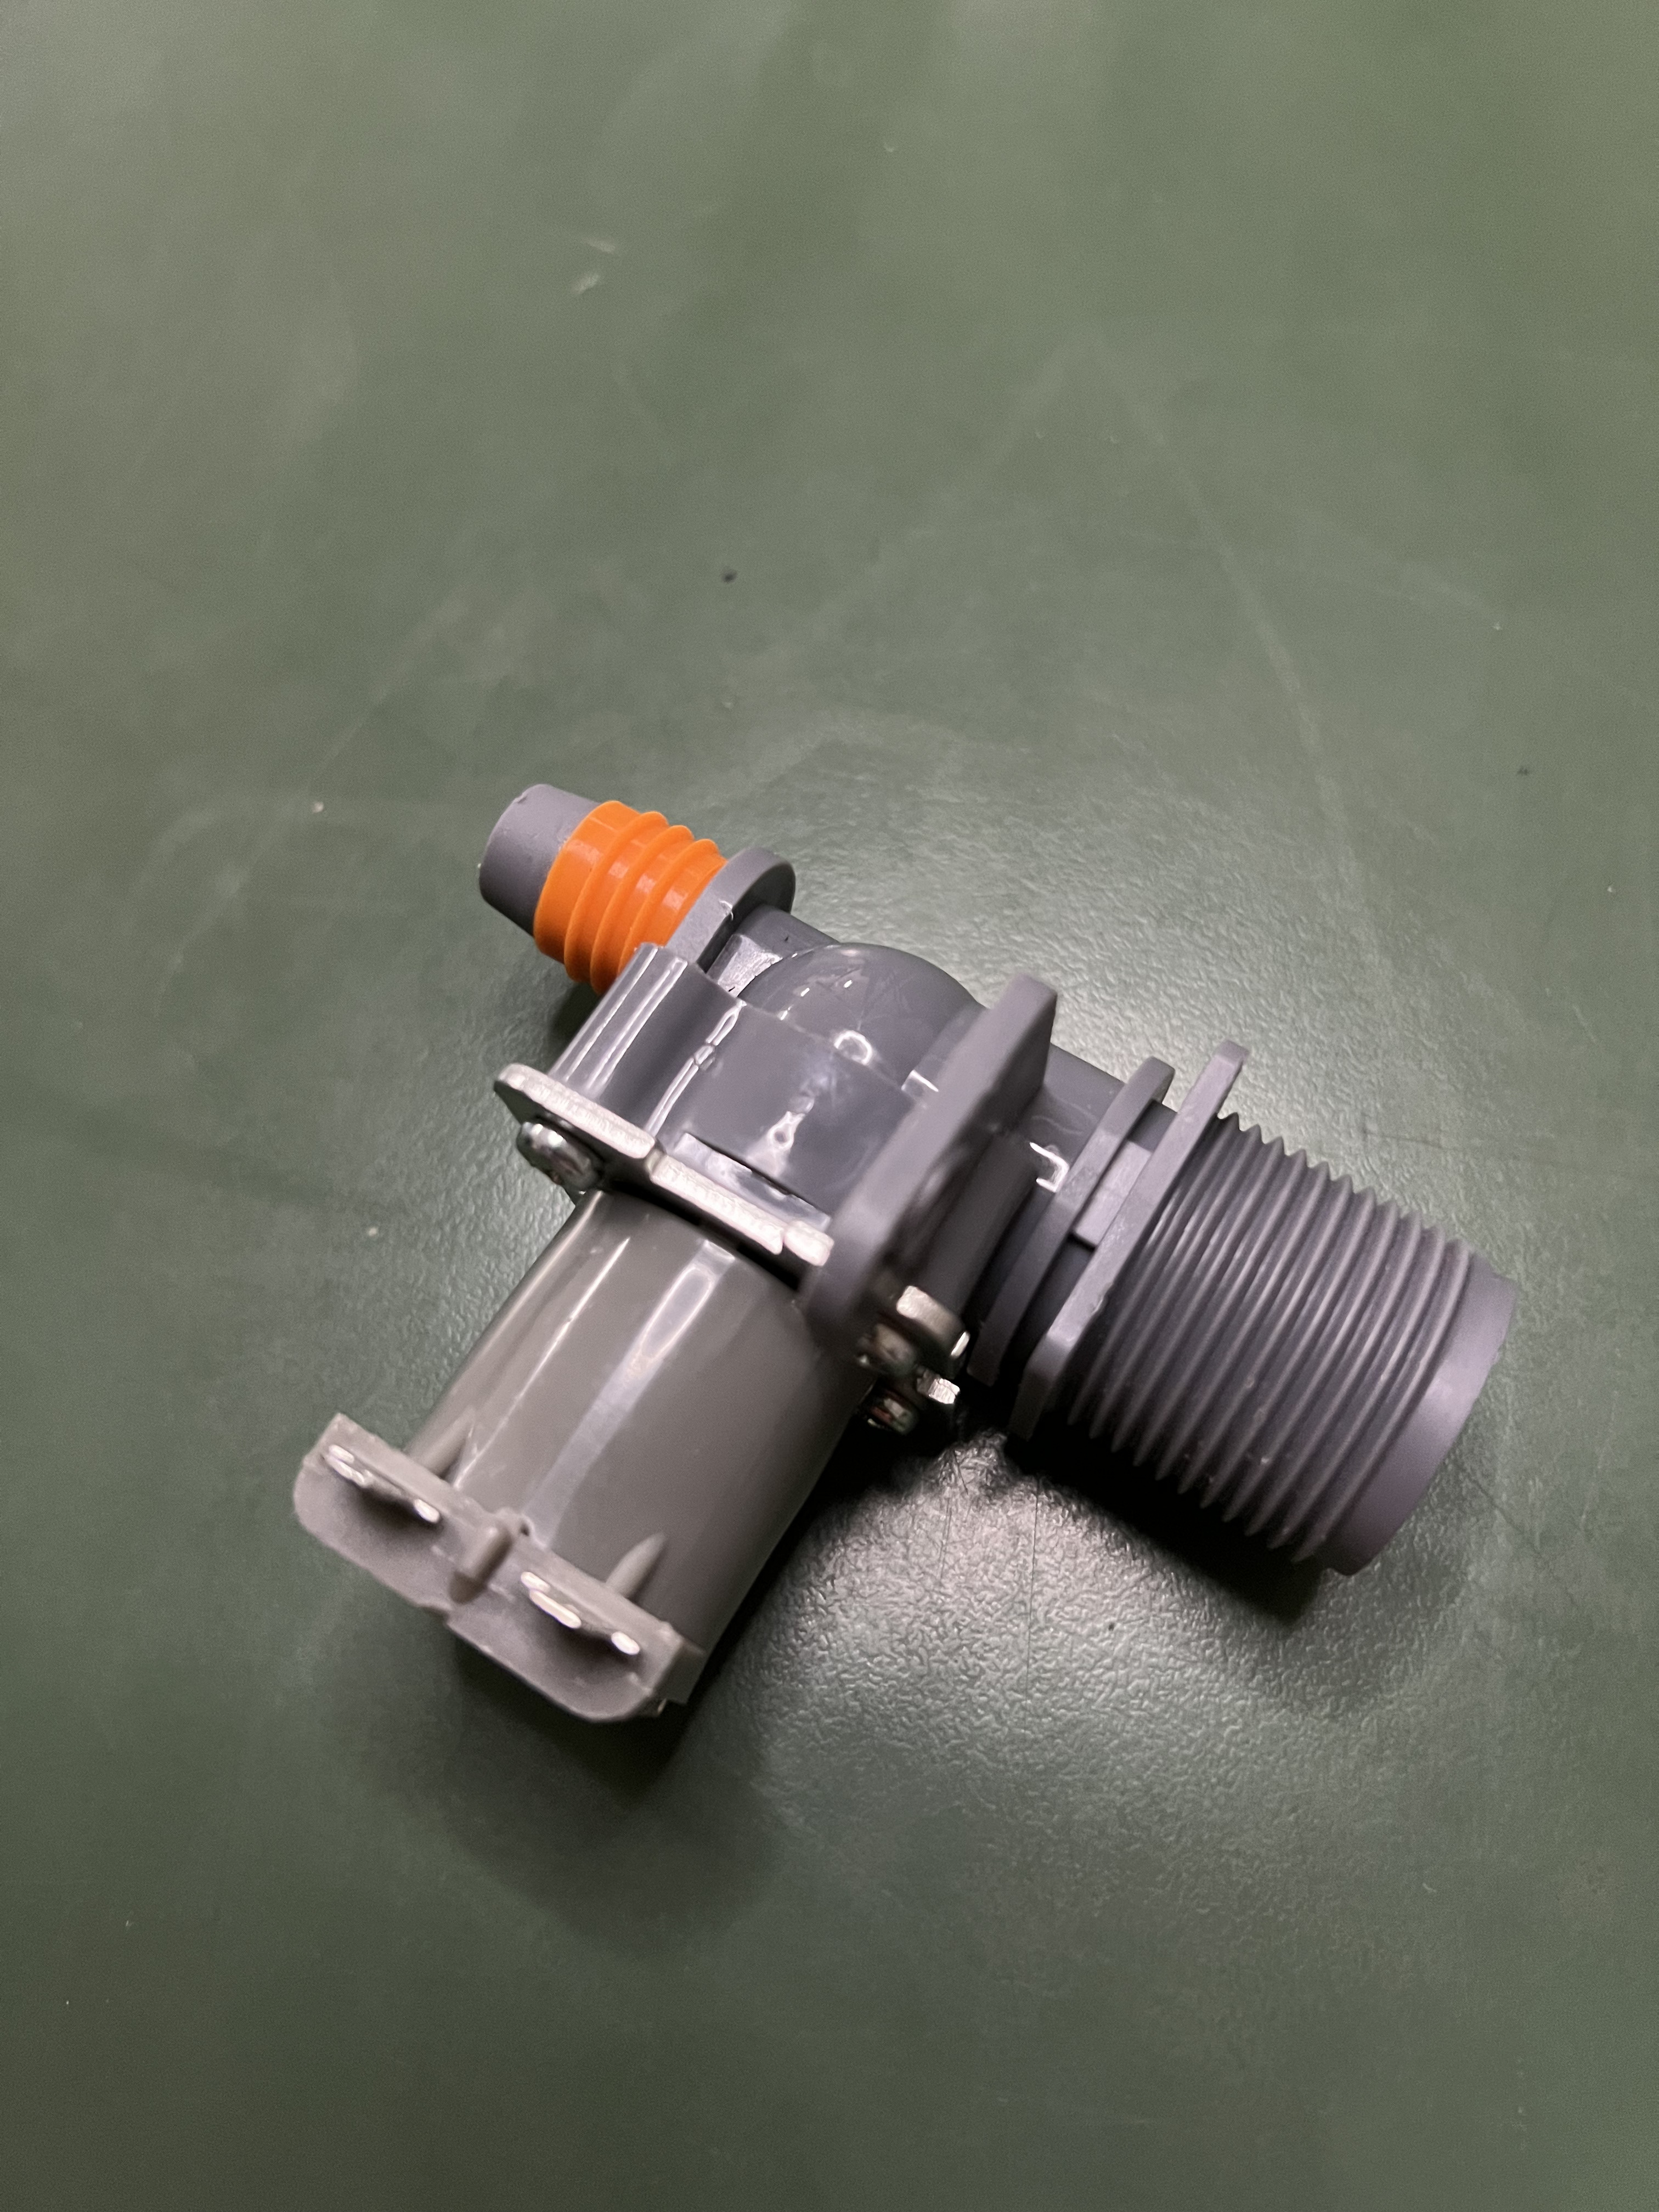inlet_valves: (272, 779, 1537, 1735)
